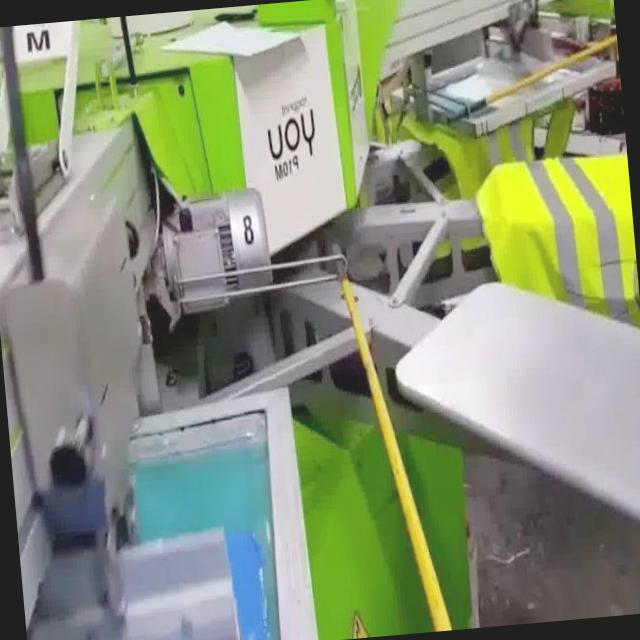vest: (468, 153, 640, 329)
